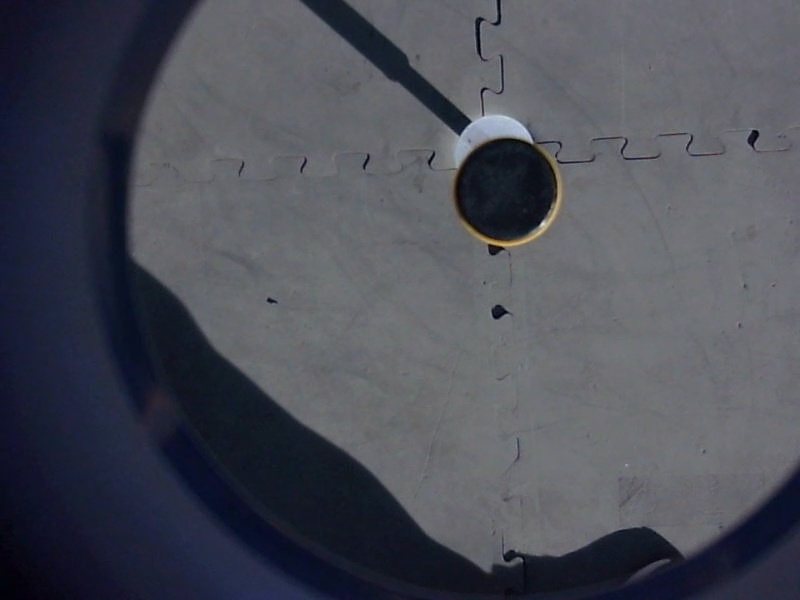tip: (448, 134, 570, 248)
